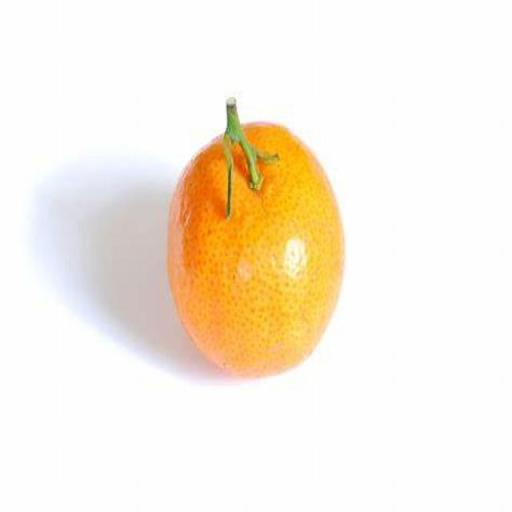fruit: (168, 100, 344, 375)
